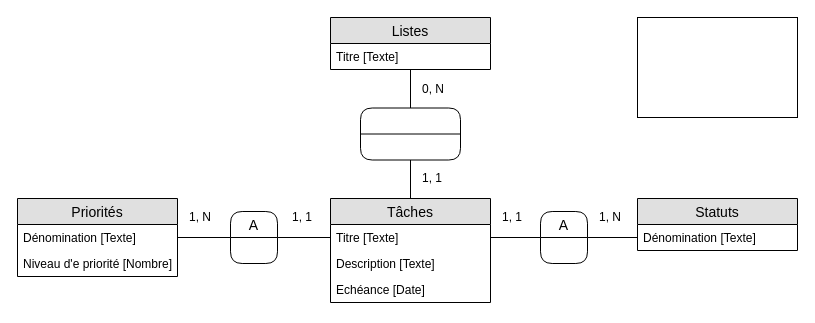
The diagram is 815 pixels wide and 323 high, and some of its shapes have lost their labels. The centre of each missing label's shape, as x and y in pixels:
"Contient" goes at (x=410, y=133).
"Titre : LifeProManager Auteur: Rossy David Date: 25.09.2019 Version: 1.0" goes at (x=717, y=67).
